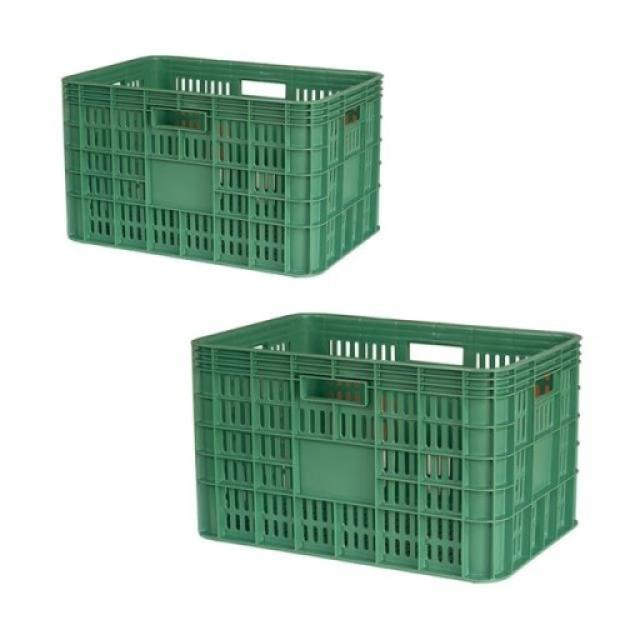basket: (176, 308, 590, 588), (50, 50, 390, 282)
